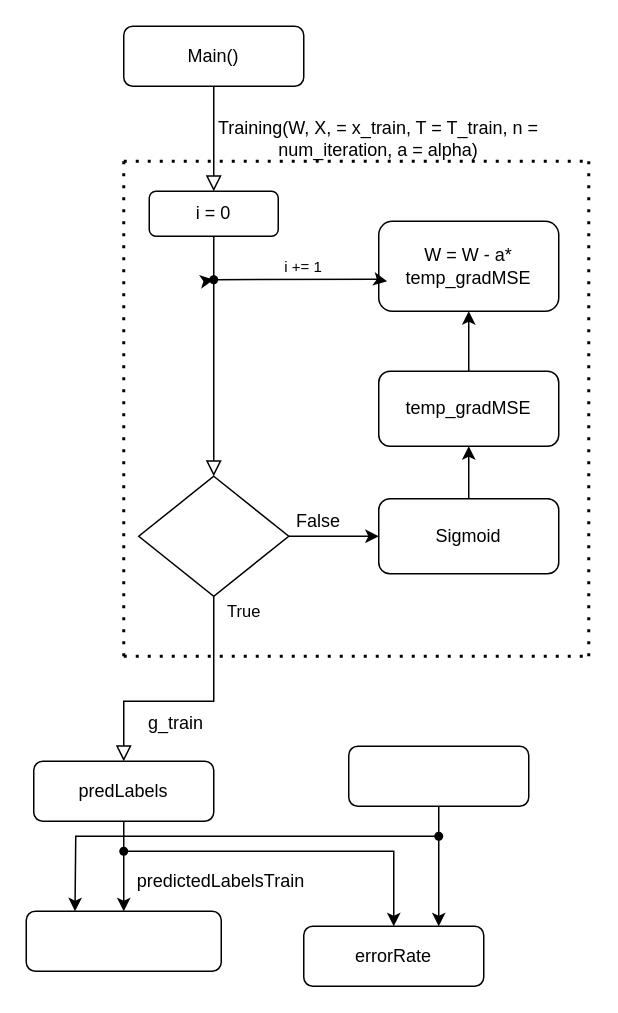
This 618x1013 diagram has some shape labels left out. The shapes that lost their labels are listed below. From the top down, each one's centre as x and y in pixels, then its label:
At point 213,535: "i > num_iterations".
At point 438,775: "TrueLabels_train".
At point 123,940: "plot_confusiomMatrix".
